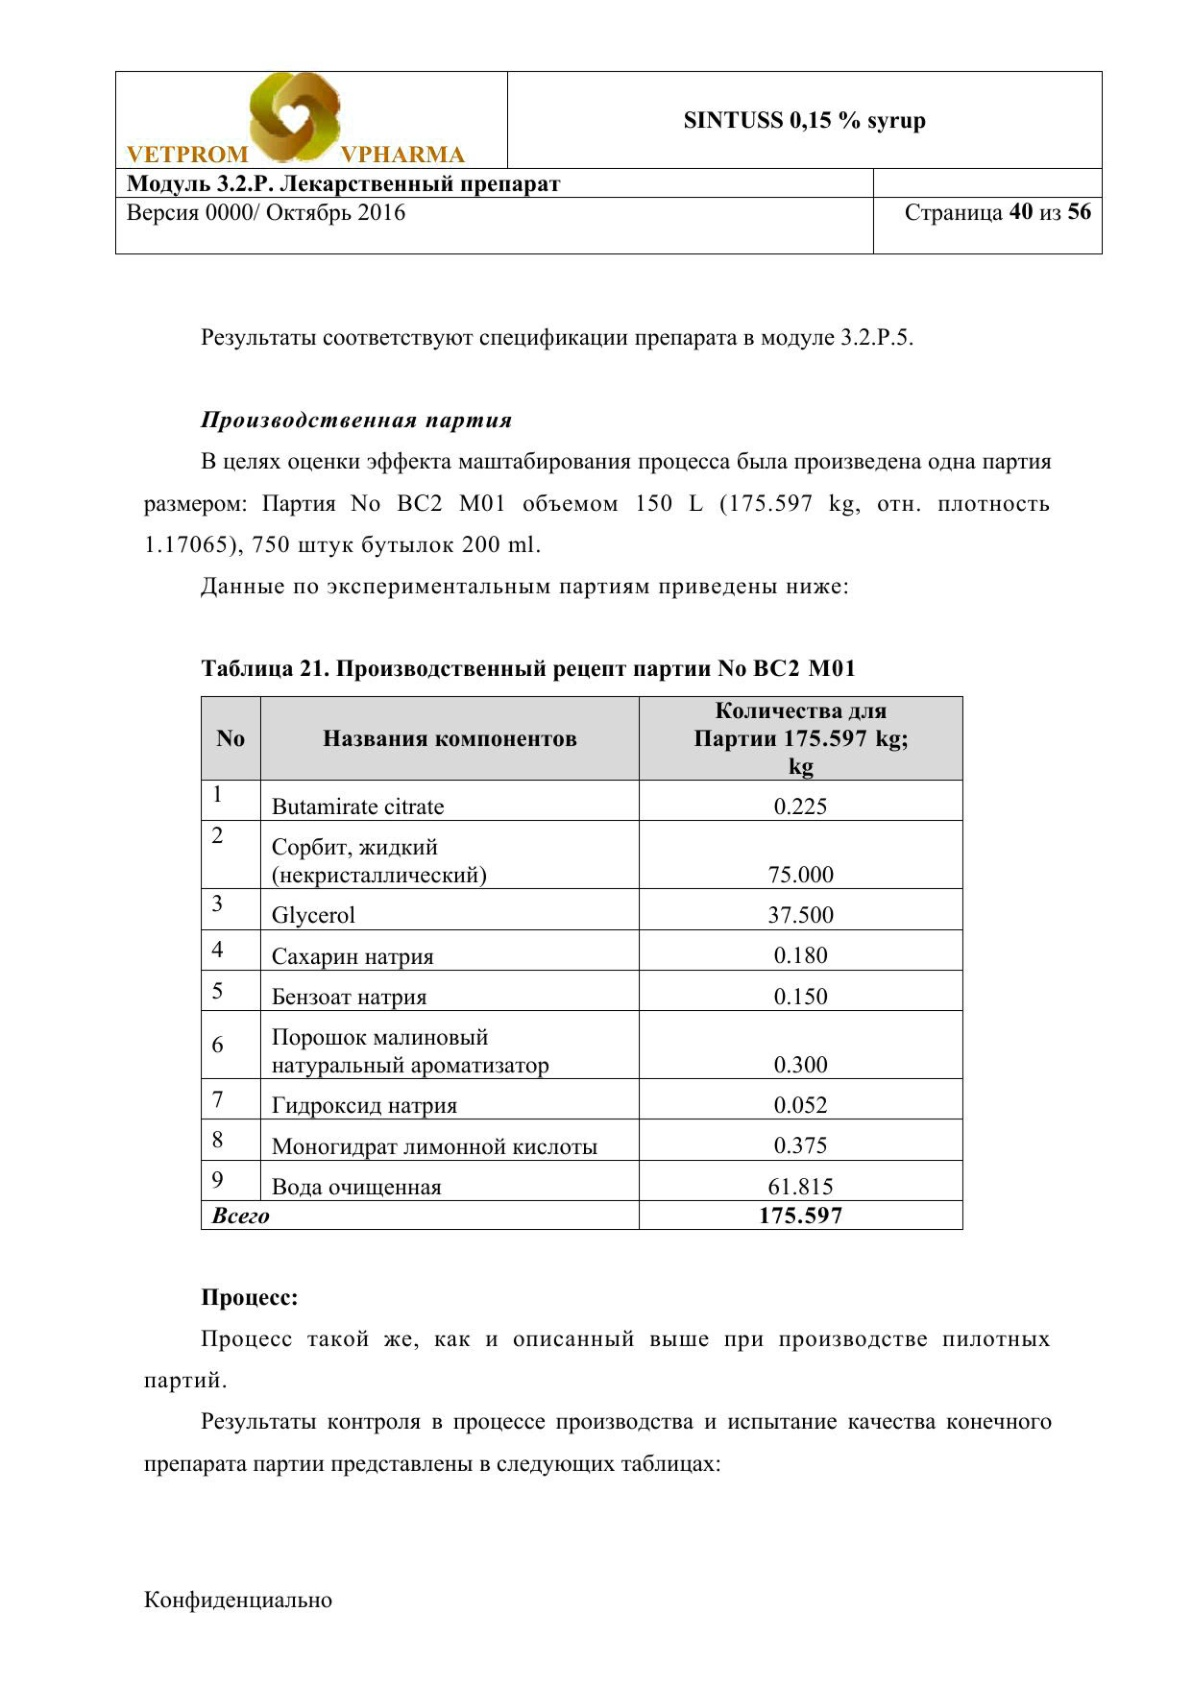full_lined: (201, 695, 964, 1230)
merged_cells: (114, 70, 1104, 255)
